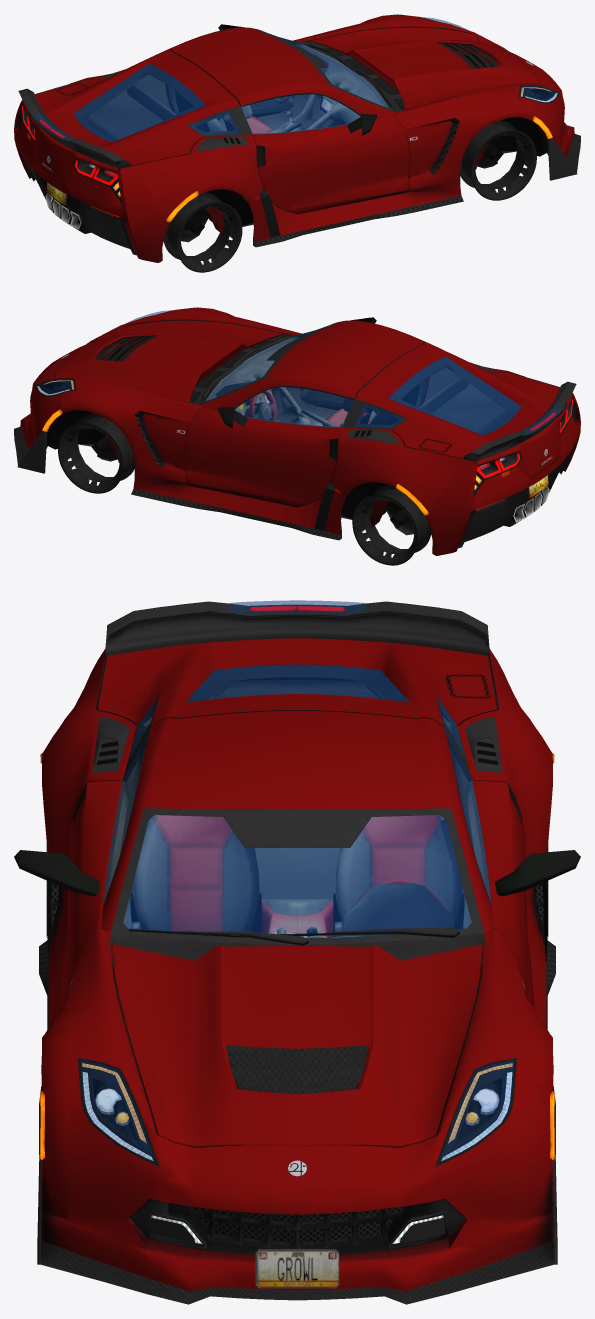
Rendered from Baked_A_ExoticMuscle_Baked_A_ExoticMuscle_SkeletalMesh3_EditorVehicle.psk.glb.
The picture shows the model from 3 angles, top to bottom: view 1: azimuth 30°, elevation 25°; view 2: azimuth 150°, elevation 25°; view 3: azimuth 270°, elevation 25°; orthographic projection. The views are drawn at different scales.
Bounding box in the file's own units: 464 × 133 × 229.
4 materials, 3 textured.
